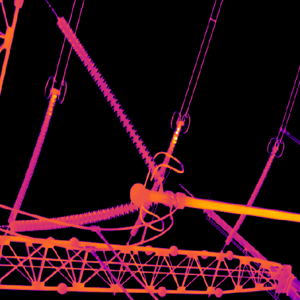insulator: (56, 16, 160, 180), (8, 92, 55, 223), (224, 145, 278, 245), (8, 200, 136, 233)
